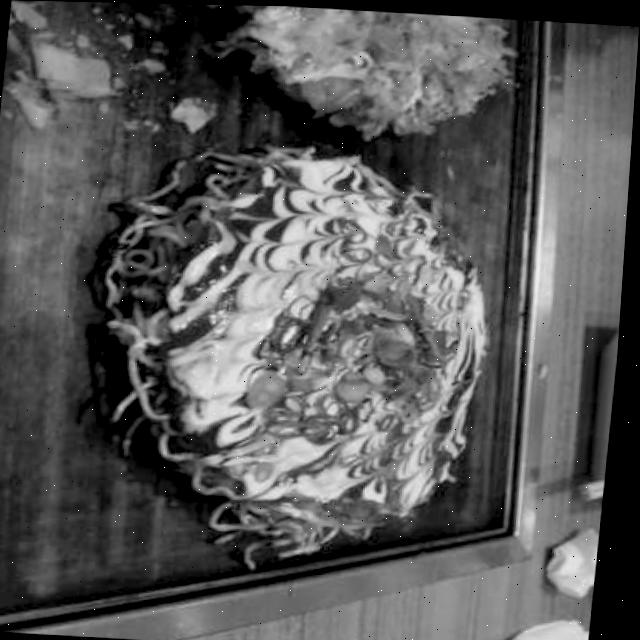蛋糕甜品: (0, 103, 408, 501)
